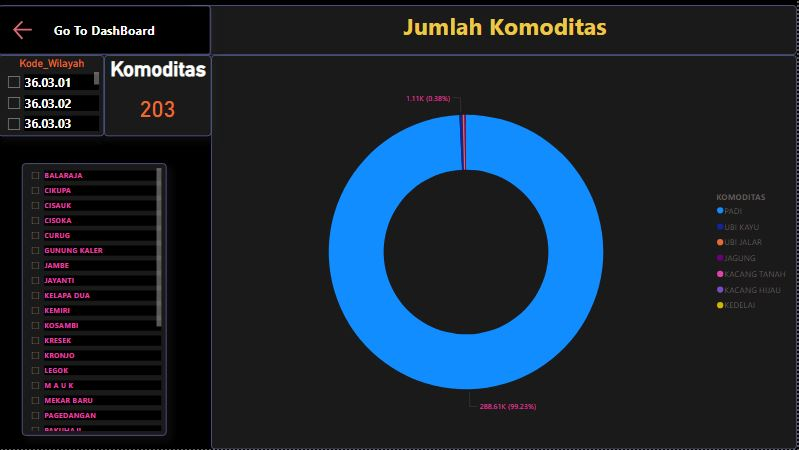

The dashboard page shown, as its layout file describes it:
{"tool":"powerbi","page":{"name":"Jumlah Komoditas","canvas":[1280,720],"ordinal":3},"visuals":[{"type":"textbox","box":[305,8.3,975,80],"z":0},{"type":"actionButton","box":[0,8.4,341.4,80.1],"z":1000},{"type":"slicer","title":"State_name","fields":{"Values":["Produksi Sektor Pertanian Tahun 2023_0 (2).KECAMATAN"]},"box":[38.3,261.7,231.7,436.7],"z":2000},{"type":"slicer","title":"Kode_Wilayah","fields":{"Values":["Produksi Sektor Pertanian Tahun 2023_0 (2).KODE_WILAYAH"]},"box":[0,88.3,170,130],"z":3000},{"type":"donutChart","title":" JUMLAH KOMODITAS","fields":{"Category":["Produksi Sektor Pertanian Tahun 2023_0 (2).KOMODITAS"],"Y":["Sum(Produksi Sektor Pertanian Tahun 2023_0 (2).JUMLAH)"]},"box":[341.7,88.3,938.3,631.7],"z":4000},{"type":"card","title":"Komoditas","fields":{"Values":["CountNonNull(Produksi Sektor Pertanian Tahun 2023_0 (2).KOMODITAS)"]},"box":[170,88.3,171.7,130],"z":5000}]}

Visuals, with their boxes in screenshot pixels (x1, y1, x2, y2), scaled from the page's 1280x720 canvas onto the 799x450 screenshot:
textbox: left=190, top=5, right=798, bottom=55
actionButton: left=0, top=5, right=213, bottom=55
"State_name" slicer: left=24, top=164, right=169, bottom=436
"Kode_Wilayah" slicer: left=0, top=55, right=106, bottom=136
" JUMLAH KOMODITAS" donutChart: left=213, top=55, right=798, bottom=449
"Komoditas" card: left=106, top=55, right=213, bottom=136
